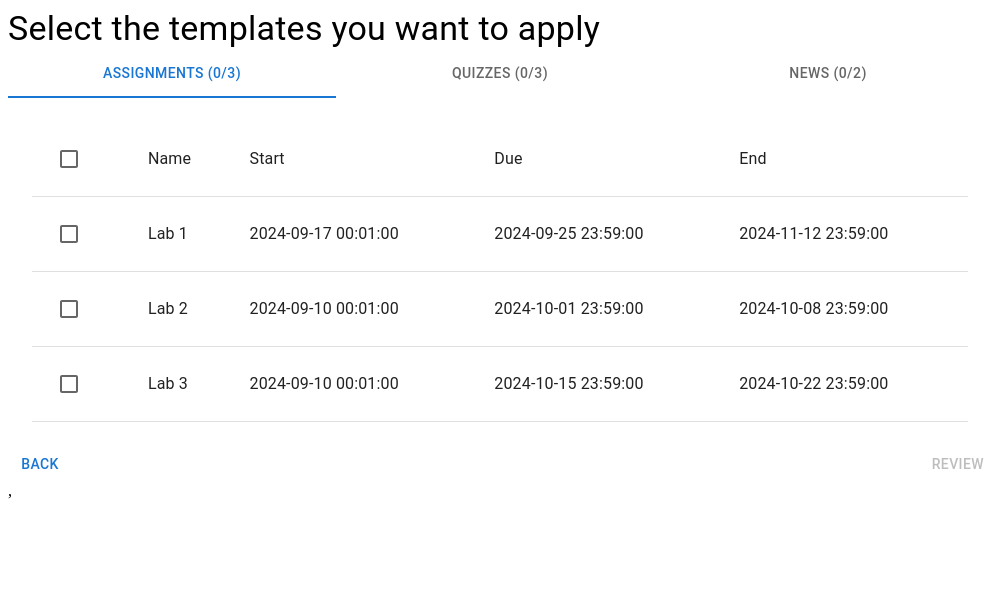
Test: <PlanStep /> › should display dates
Hover over the text "2024-10-15 23:59:00" at {"x": 569, "y": 384}, box [494,374,643,393]
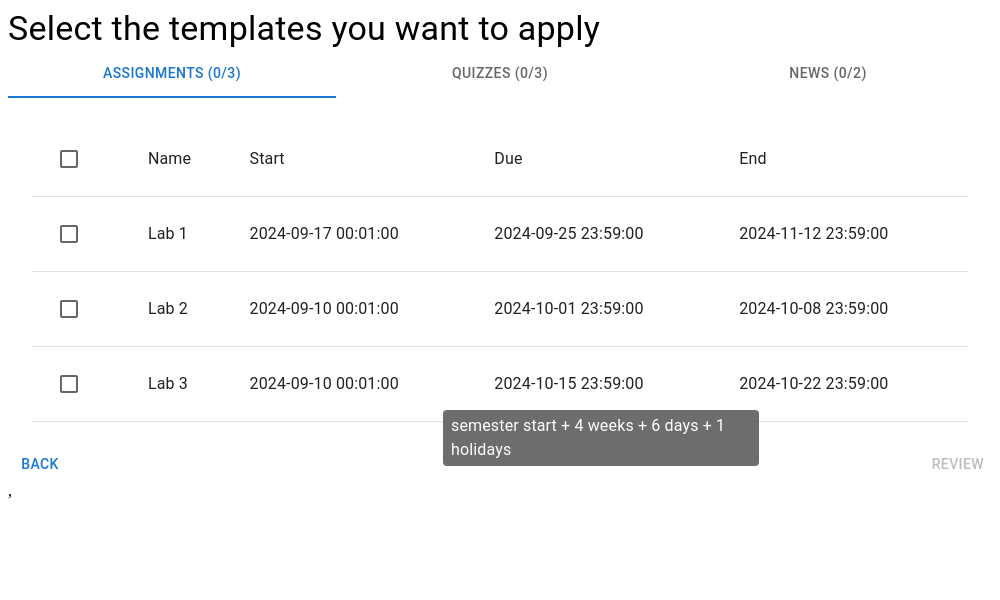
Check: the text "semester start + 4 weeks + 6 days + 1 holidays" is shown, box [451,414,751,462]
Hover over the text "2024-10-22 23:59:00" at {"x": 814, "y": 384}, box [739,374,888,393]
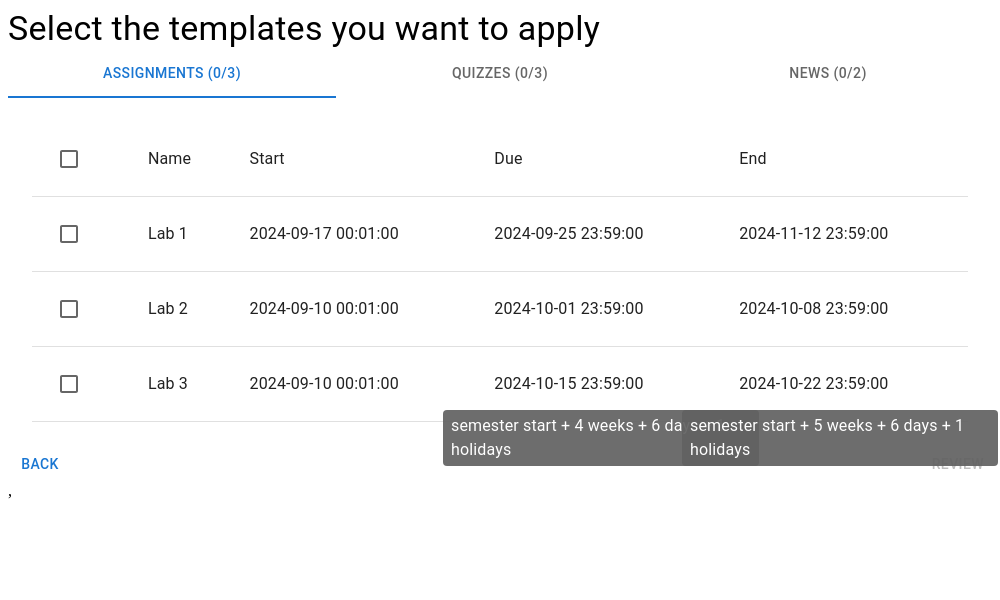
Check: the text "semester start + 5 weeks + 6 days + 1 holidays" is shown, box [690,414,990,462]
Click the tab "Quizzes (0/3)" at {"x": 500, "y": 74}, box [336,50,664,98]
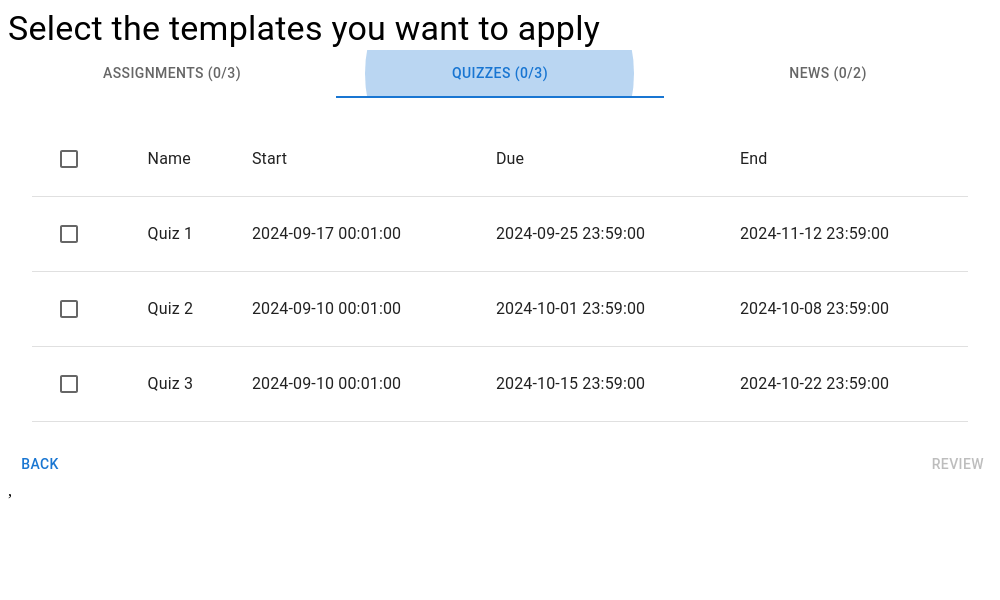
Hover over the text "2024-10-15 23:59:00" at {"x": 571, "y": 384}, box [496,374,645,393]
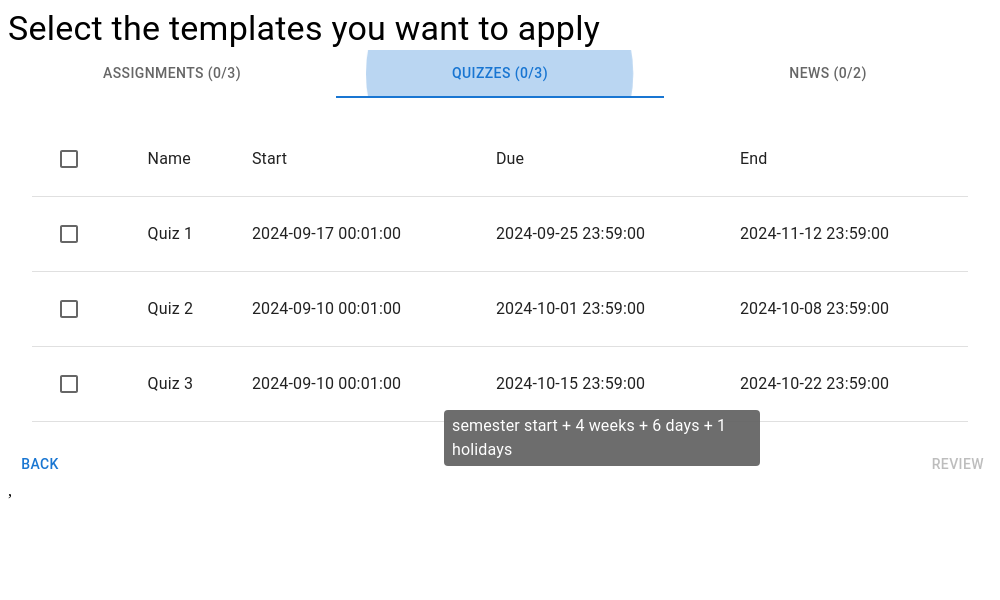
Check: the text "semester start + 4 weeks + 6 days + 1 holidays" is shown, box [452,414,752,462]
Hover over the text "2024-10-22 23:59:00" at {"x": 815, "y": 384}, box [740,374,889,393]
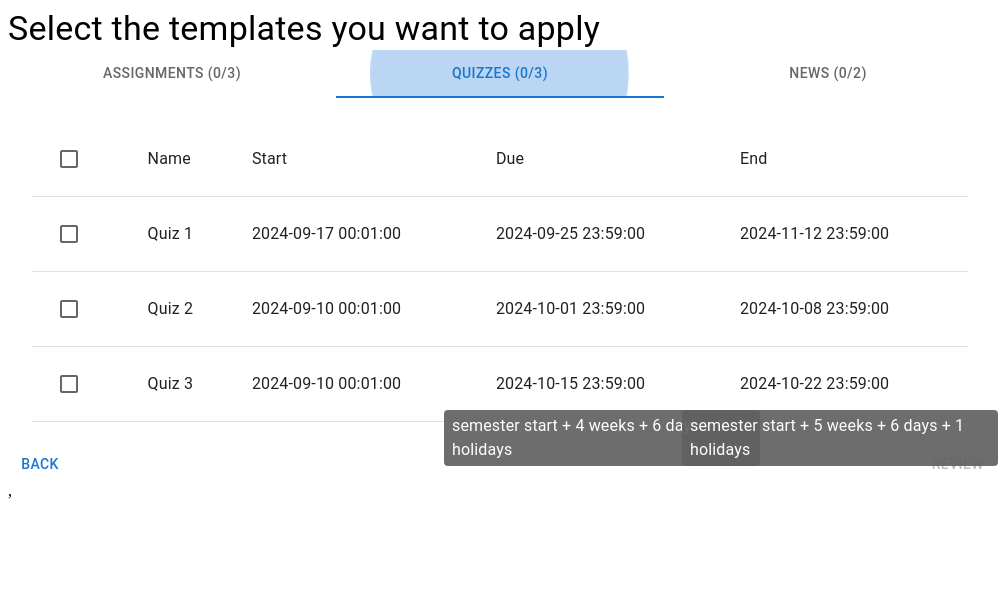
Check: the text "semester start + 5 weeks + 6 days + 1 holidays" is shown, box [690,414,990,462]
